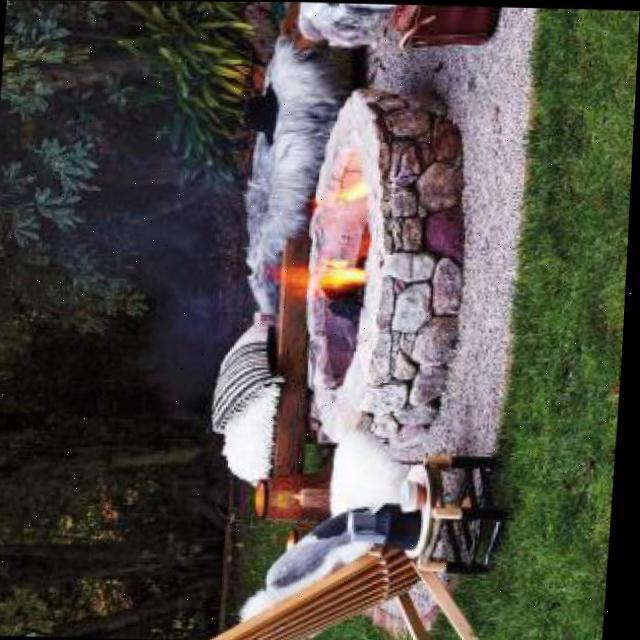fire: (275, 251, 370, 298), (313, 175, 371, 212)
